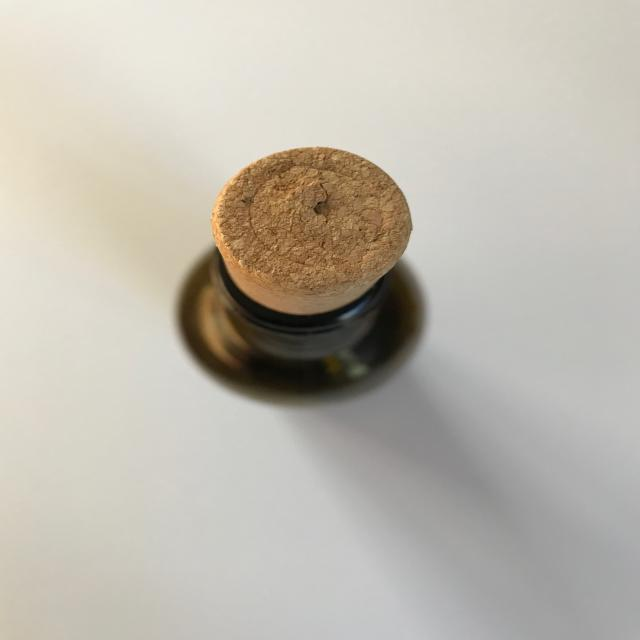glass: (176, 145, 426, 402)
